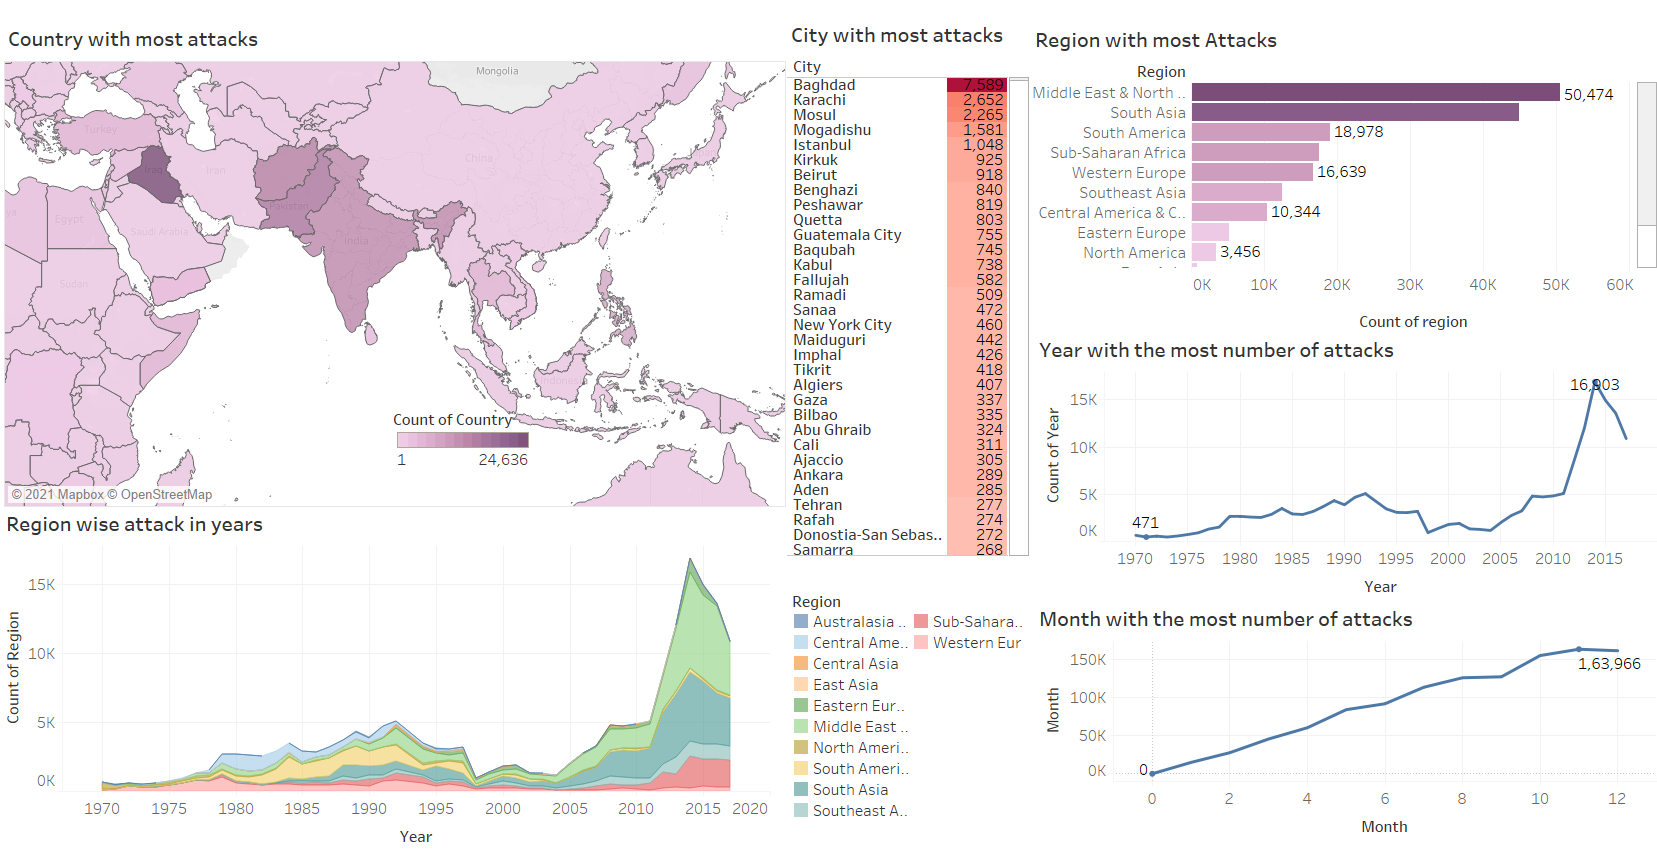

What the dashboard file says about the page in this screenshot:
{"tool":"tableau","page":{"name":"Dashboard 1","canvas":[1000,1000],"units":"permille","ordinal":0},"visuals":[{"type":"worksheet","title":"Sheet 2","mark":"Square","rows":["city"],"box":[474.9,16.3,280,662]},{"type":"worksheet","title":"Sheet 1","mark":"Automatic","box":[2.4,20.9,471.9,567.9]},{"type":"worksheet","title":"Sheet 3","mark":"Automatic","rows":["region_txt"],"cols":["region"],"box":[622.2,22.1,377.8,371.7]},{"type":"worksheet","title":"Sheet 4","mark":"Automatic","rows":["iyear"],"cols":["iyear"],"box":[624.6,382.1,375.4,319.4]},{"type":"legend","title":"Sheet 1","param":"[federated.0ocu5tu0lpl7d31duu9cm148f99v].[cnt:country_txt:qk]","box":[195.1,473.9,84.4,86]},{"type":"worksheet","title":"Sheet 9","mark":"Area","rows":["region_txt"],"cols":["iyear"],"box":[1.2,584.2,463.5,407.7]},{"type":"legend","title":"Sheet 9","param":"[federated.0ocu5tu0lpl7d31duu9cm148f99v].[none:region_txt:nk]","box":[477.4,684.1,140,286.9]},{"type":"worksheet","title":"Sheet 5","mark":"Automatic","rows":["imonth"],"cols":["imonth"],"box":[624.6,694.5,374.8,285.7]}]}

Visuals, with their boxes on the dashboard's canvas, which has no fixed pixel size, in thousandths of its width and height (x1, y1, x2, y2). These are canvas units, not pixel positions in the 1657x861 screenshot, which may show the page scaled, cropped or inside an application window:
"Sheet 2" worksheet (Square marks): BBox(475, 16, 755, 678)
"Sheet 1" worksheet: BBox(2, 21, 474, 589)
"Sheet 3" worksheet: BBox(622, 22, 1000, 394)
"Sheet 4" worksheet: BBox(625, 382, 1000, 702)
"Sheet 1" legend: BBox(195, 474, 280, 560)
"Sheet 9" worksheet (Area marks): BBox(1, 584, 465, 992)
"Sheet 9" legend: BBox(477, 684, 617, 971)
"Sheet 5" worksheet: BBox(625, 694, 999, 980)
